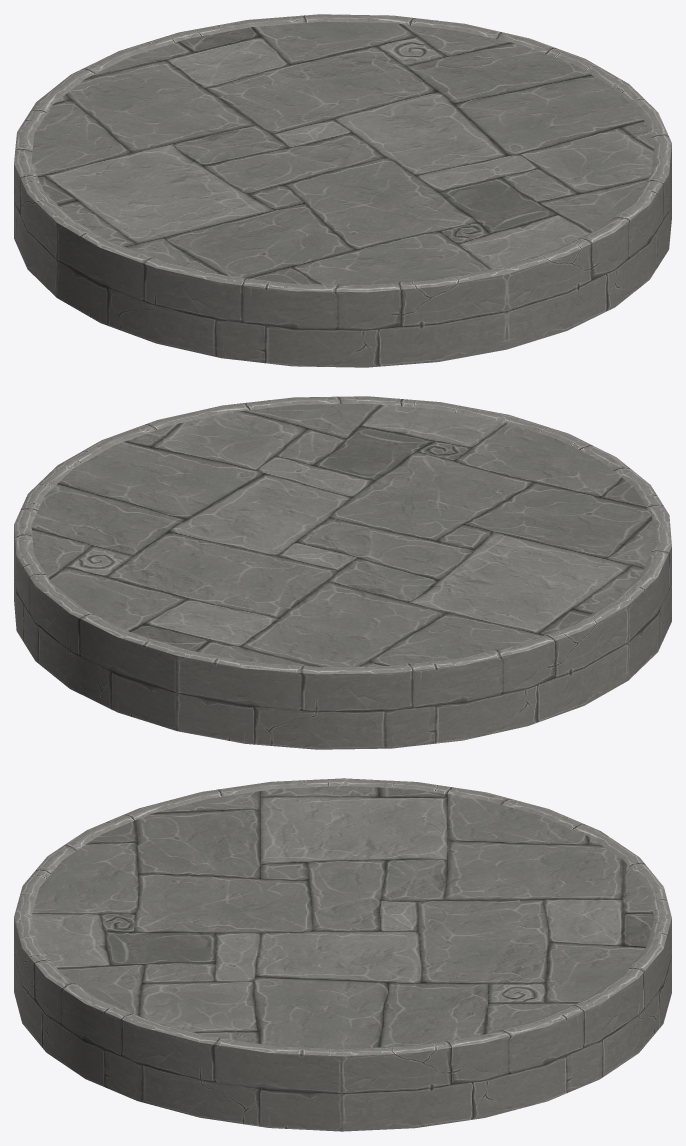
The model's file is Floor.gltf.
The picture shows the model from 3 angles, top to bottom: view 1: azimuth 30°, elevation 25°; view 2: azimuth 150°, elevation 25°; view 3: azimuth 270°, elevation 25°; orthographic projection.
Visible parts, largest first — view 1: node_id32, node_id34; view 2: node_id32, node_id34; view 3: node_id32, node_id34.
Part boxes in pixels (<box>): node_id32: <box>31,21,654,284</box>; node_id34: <box>14,14,671,367</box>; node_id32: <box>31,403,654,666</box>; node_id34: <box>14,396,671,749</box>; node_id32: <box>31,786,654,1048</box>; node_id34: <box>14,778,671,1131</box>.
Size of the model in its own units: 0.512 by 0.0672 by 0.512.
Materials: 3 (3 with a texture image).
